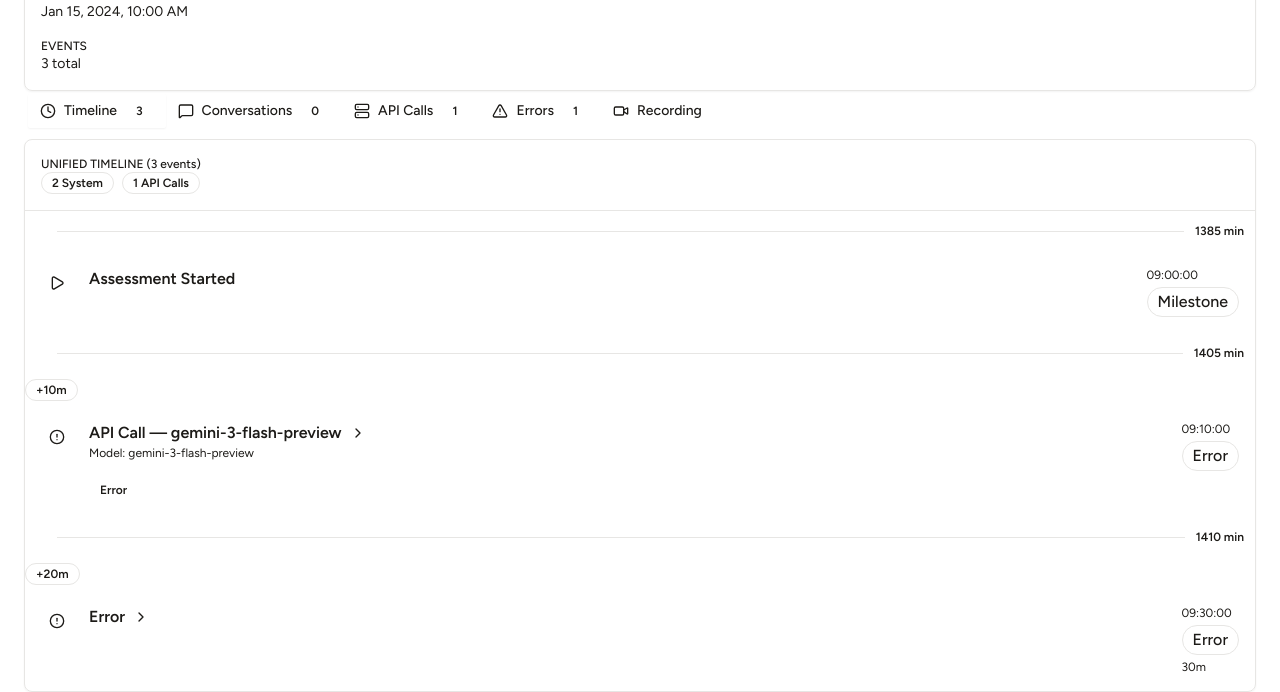
Test case: AssessmentTimelineClient › Error Handling › expands error details when clicked
The width and height of the screenshot is (1280, 692).
(page scrolled)
Click the element showing "Error 09:30:00 Error 30m".
click(107, 616)  # box 25,589 -> 1255,691
(page scrolled)
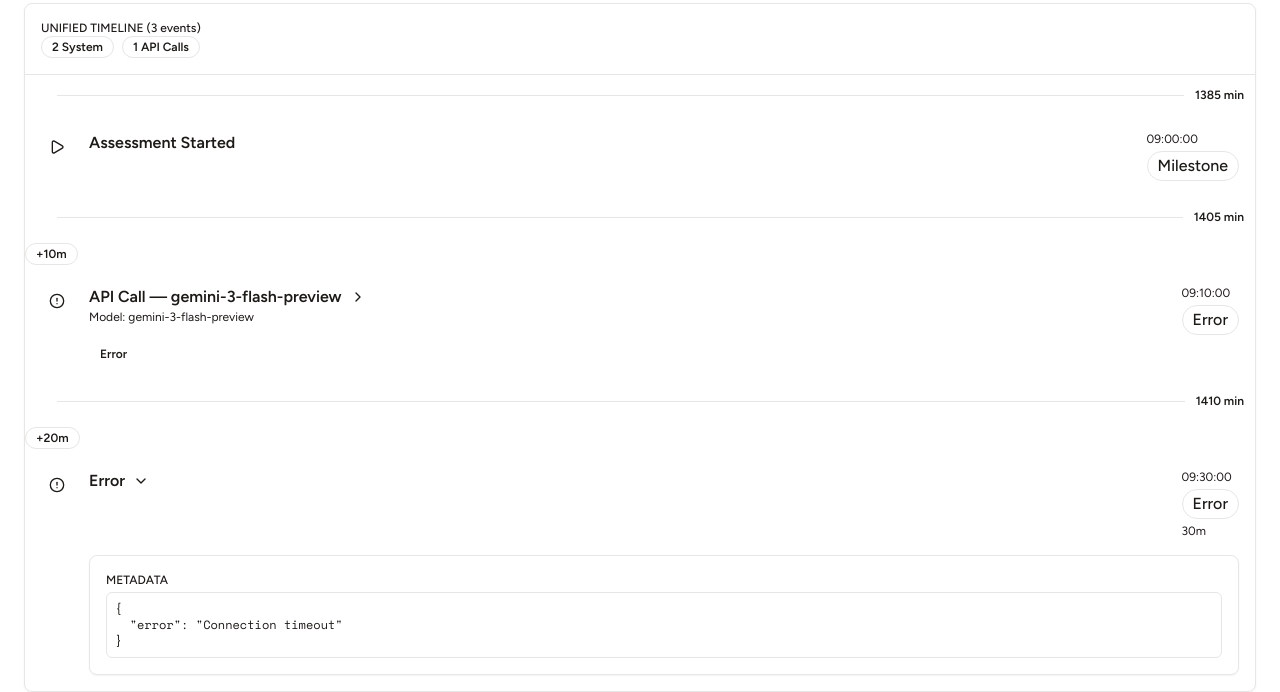
Expected: the element with test id "error-details-log-2" is shown, 89,555 -> 1239,675
